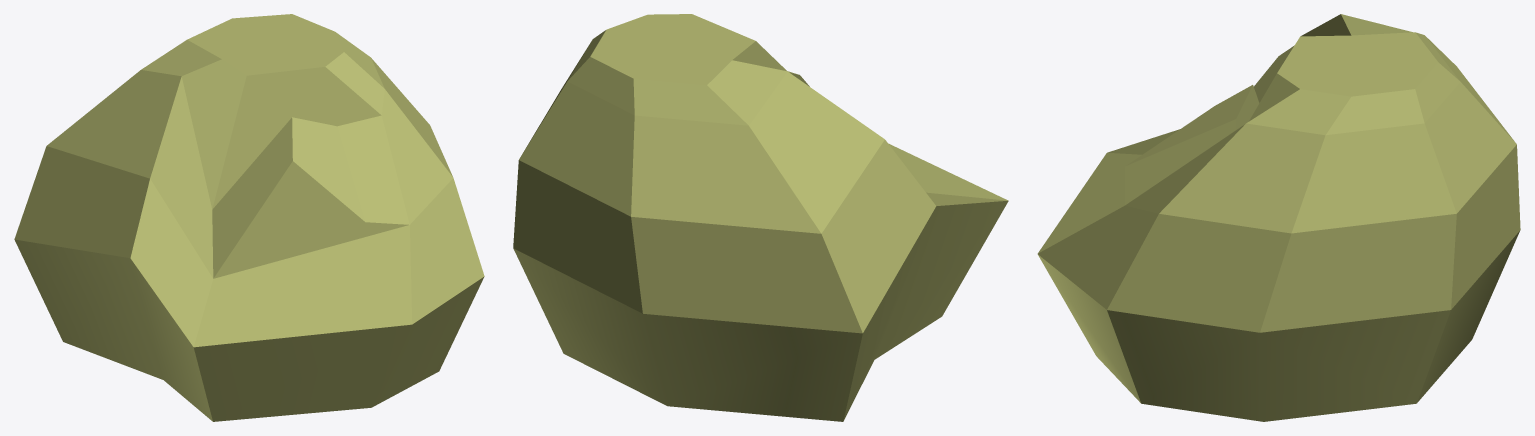
Rendered from Rock_Han_Spring.fbx.
3 views of the same model, side by side, from view 1: azimuth 30°, elevation 25°; view 2: azimuth 150°, elevation 25°; view 3: azimuth 270°, elevation 25° (orthographic). The views are drawn at different scales.
Parts seen in each view (by area): view 1: Rock_Spring; view 2: Rock_Spring; view 3: Rock_Spring.
Part boxes in pixels (x1,y1,x2,y2): Rock_Spring: (14, 14, 484, 421); Rock_Spring: (513, 14, 1008, 421); Rock_Spring: (1037, 14, 1520, 421).
Bounding box in the file's own units: 0.0181 × 0.0132 × 0.0192.
